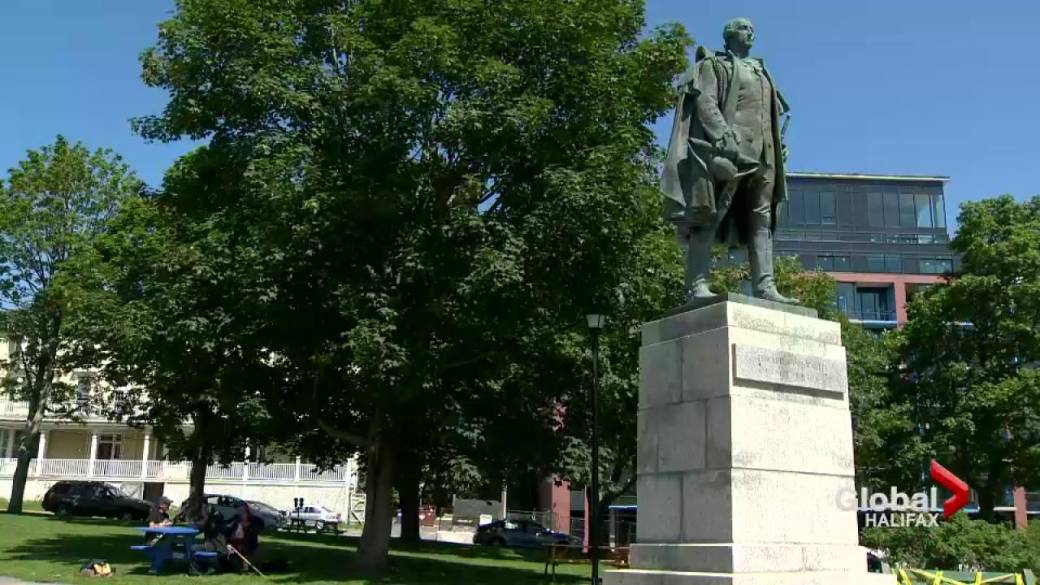person-like: (654, 15, 805, 307)
